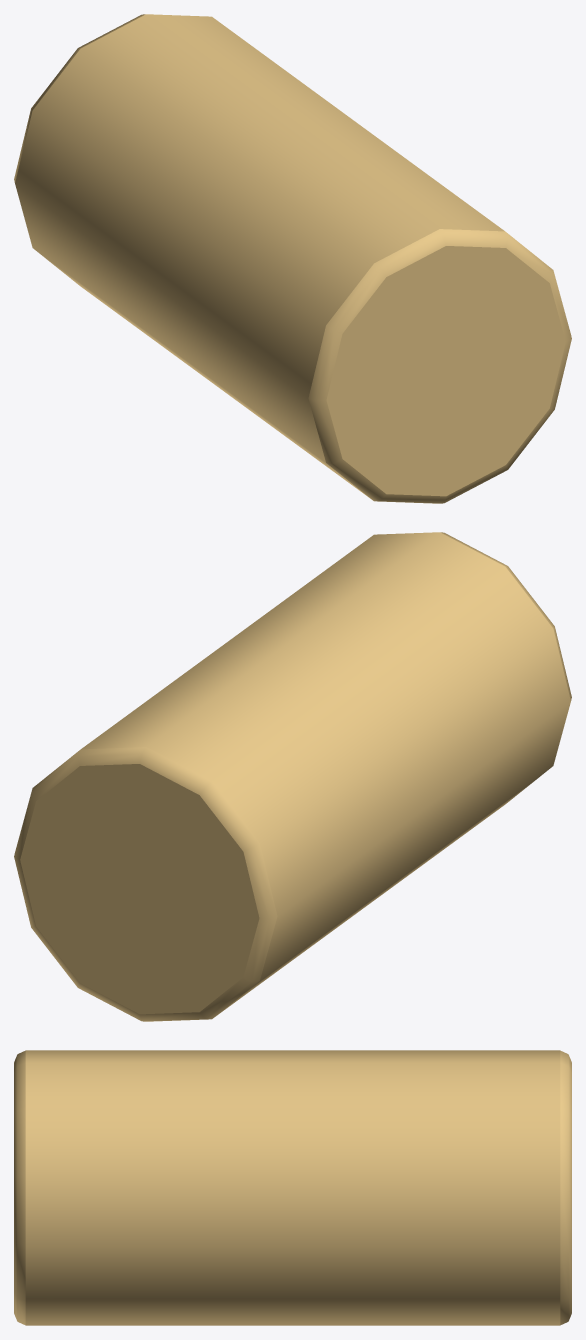
The model's file is casing_9mm.glb.
The picture shows the model from 3 angles, top to bottom: view 1: azimuth 30°, elevation 25°; view 2: azimuth 150°, elevation 25°; view 3: azimuth 270°, elevation 25°; orthographic projection. The views are drawn at different scales.
Visible parts, largest first — view 1: Casing; view 2: Casing; view 3: Casing.
Part boxes in pixels (x1,y1,x2,y2): Casing: (14, 14, 571, 503); Casing: (14, 532, 571, 1021); Casing: (14, 1050, 571, 1325).
Size of the model in its own units: 0.0094 by 0.0094 by 0.019.
